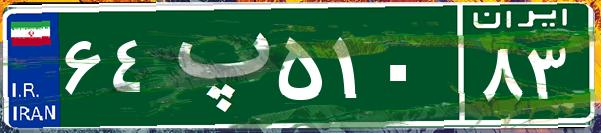0: (385, 28, 445, 110)
1: (330, 28, 385, 110)
3: (525, 38, 570, 115)
4: (110, 28, 158, 105)
5: (273, 28, 330, 110)
6: (57, 26, 110, 107)
8: (475, 38, 525, 113)
پ: (158, 15, 273, 115)
